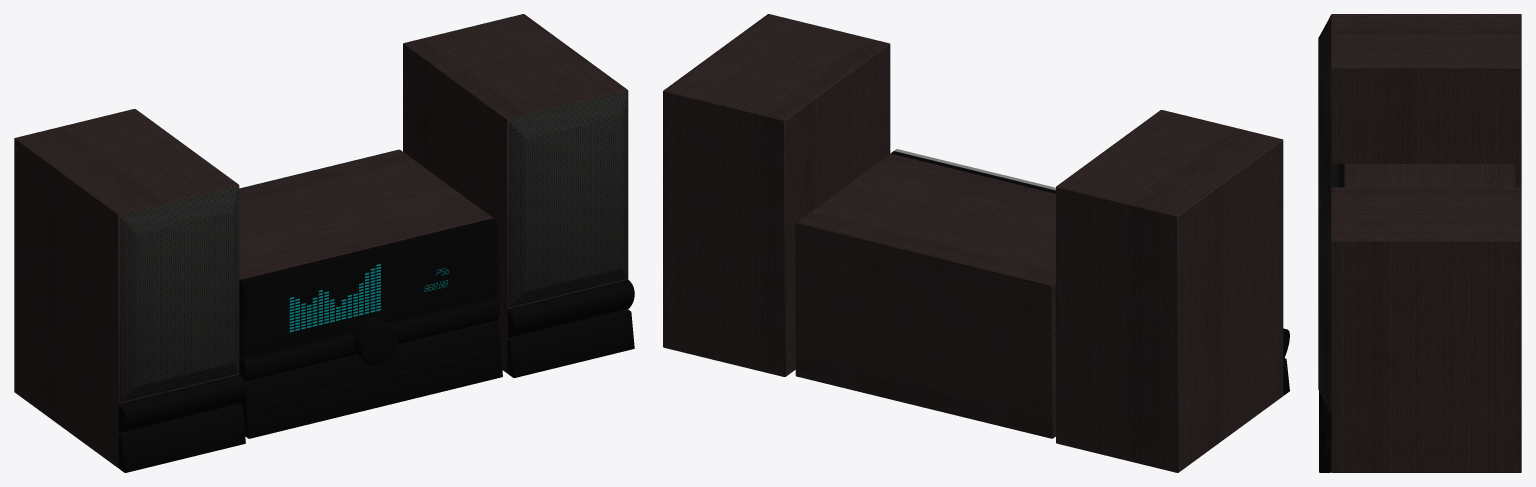
3 renders of one model, left to right at view 1: azimuth 30°, elevation 25°; view 2: azimuth 150°, elevation 25°; view 3: azimuth 270°, elevation 25°, orthographic. The views are drawn at different scales.
Parts seen in each view (by area): view 1: Node; view 2: Node; view 3: Node.
Boxes of the visible parts, x1,y1,x2,y2 form: Node: [14, 14, 634, 472]; Node: [663, 14, 1289, 472]; Node: [1318, 14, 1521, 472].
Bounding box in the file's own units: 0.84 × 0.4 × 0.318.
Materials: 6 (2 with a texture image).
